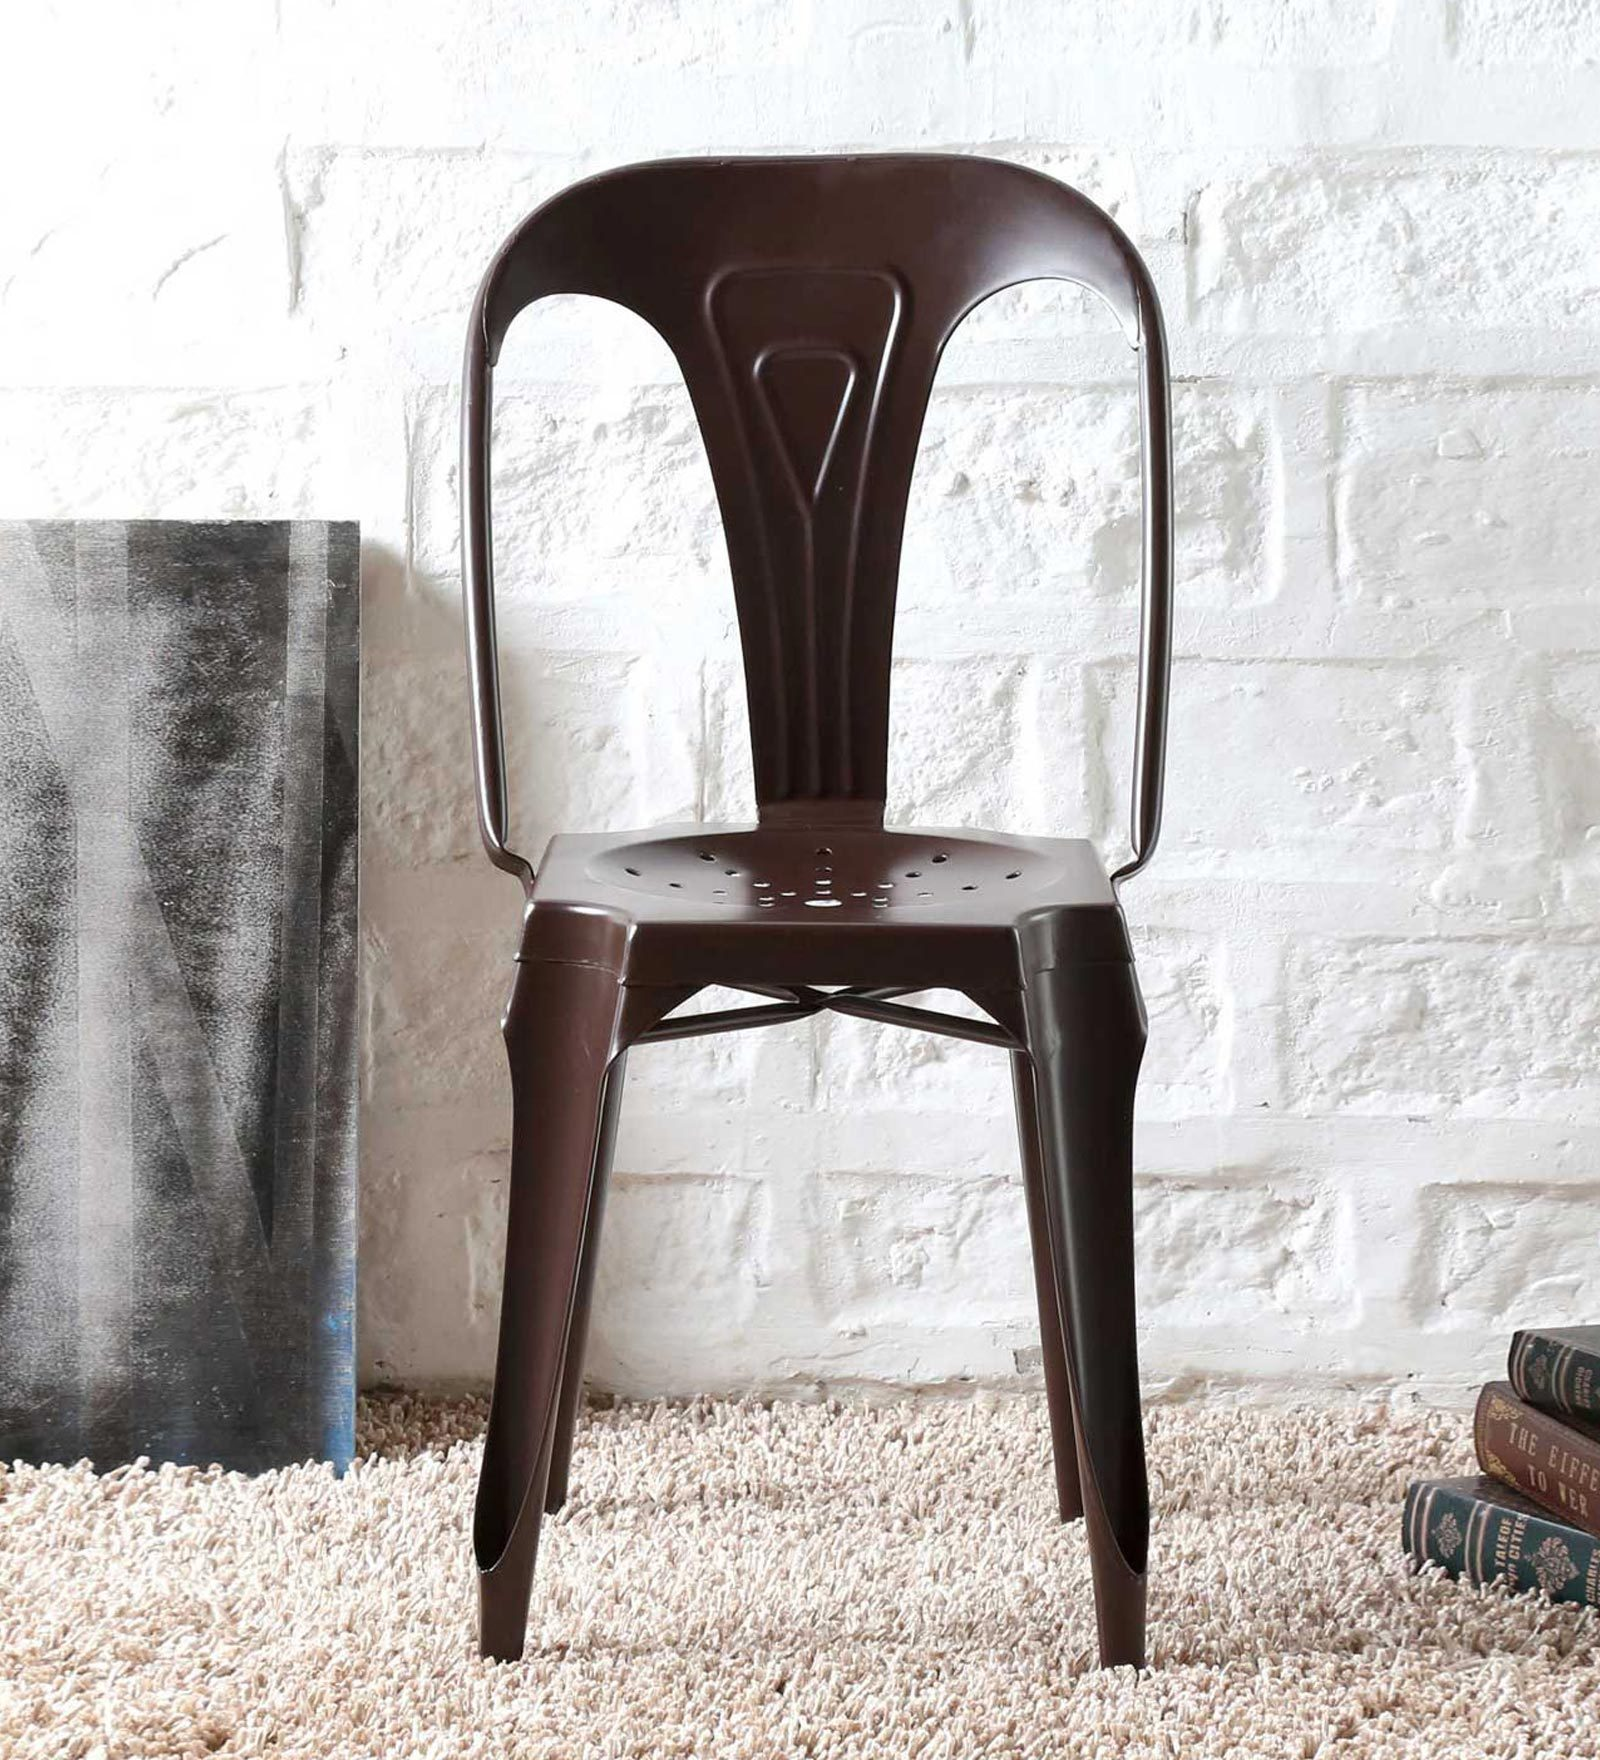Amos Metal Chair in Brown Color by Bohemiana: (389, 120, 1218, 1702)
